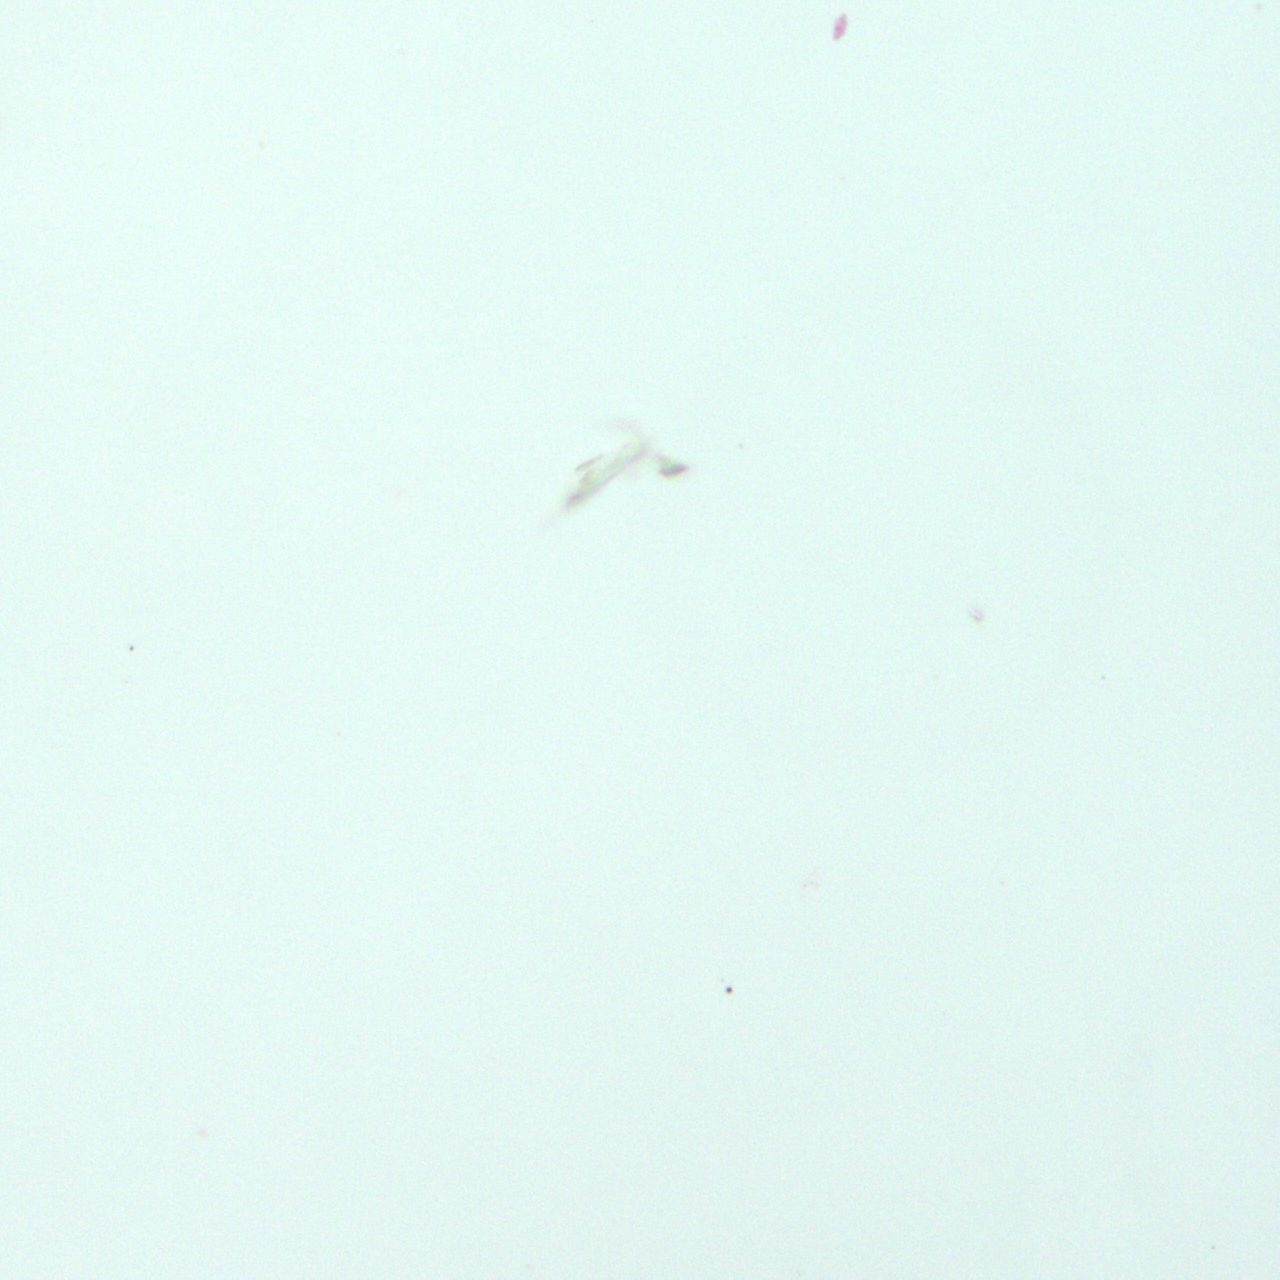dust: (721, 986, 735, 994)
